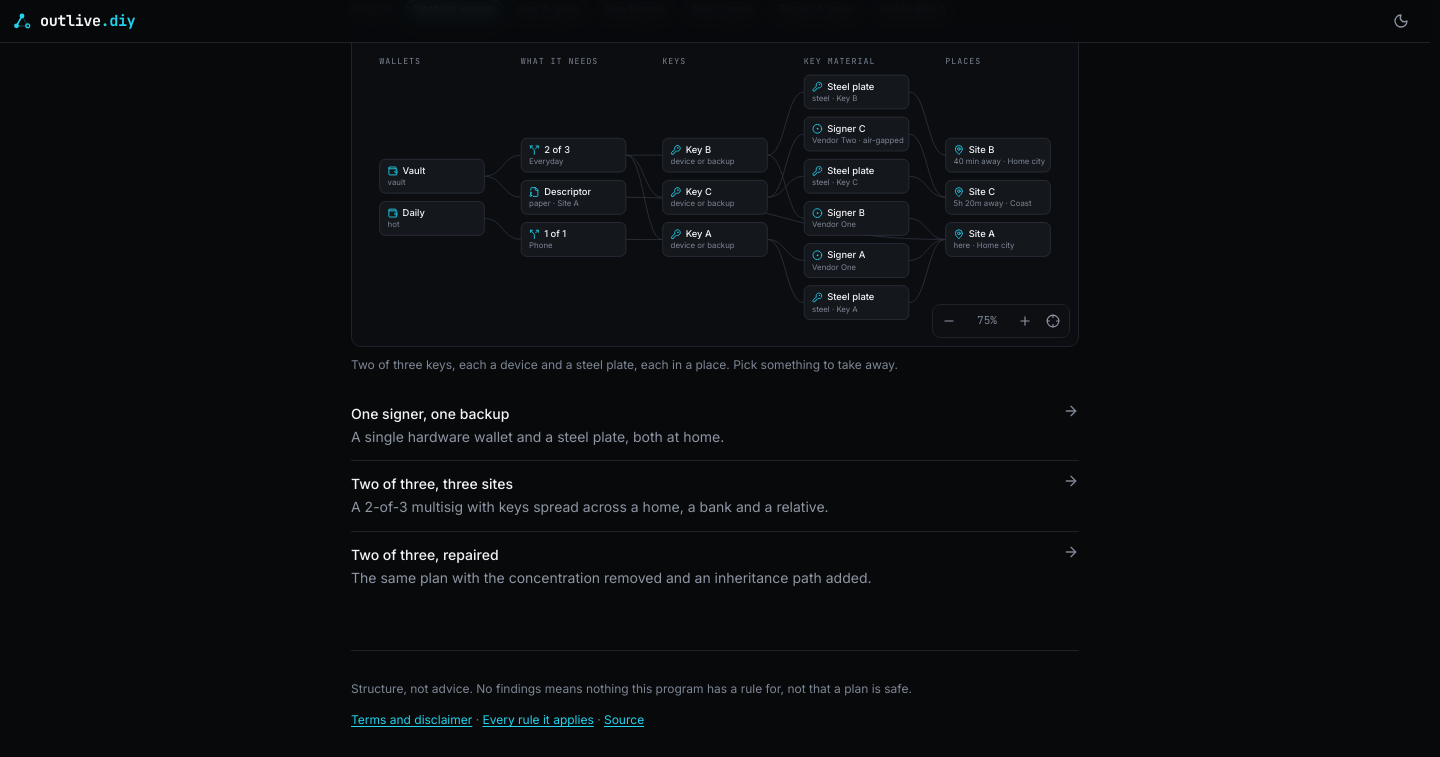
Test case: the input guard, in the interface › refuses the four-letter form a metal plate is stamped in
The image size is (1440, 757).
(page scrolled)
Step 1. Click the text "One signer, one backup" → (430, 413), box [351, 405, 509, 422]
(page scrolled)
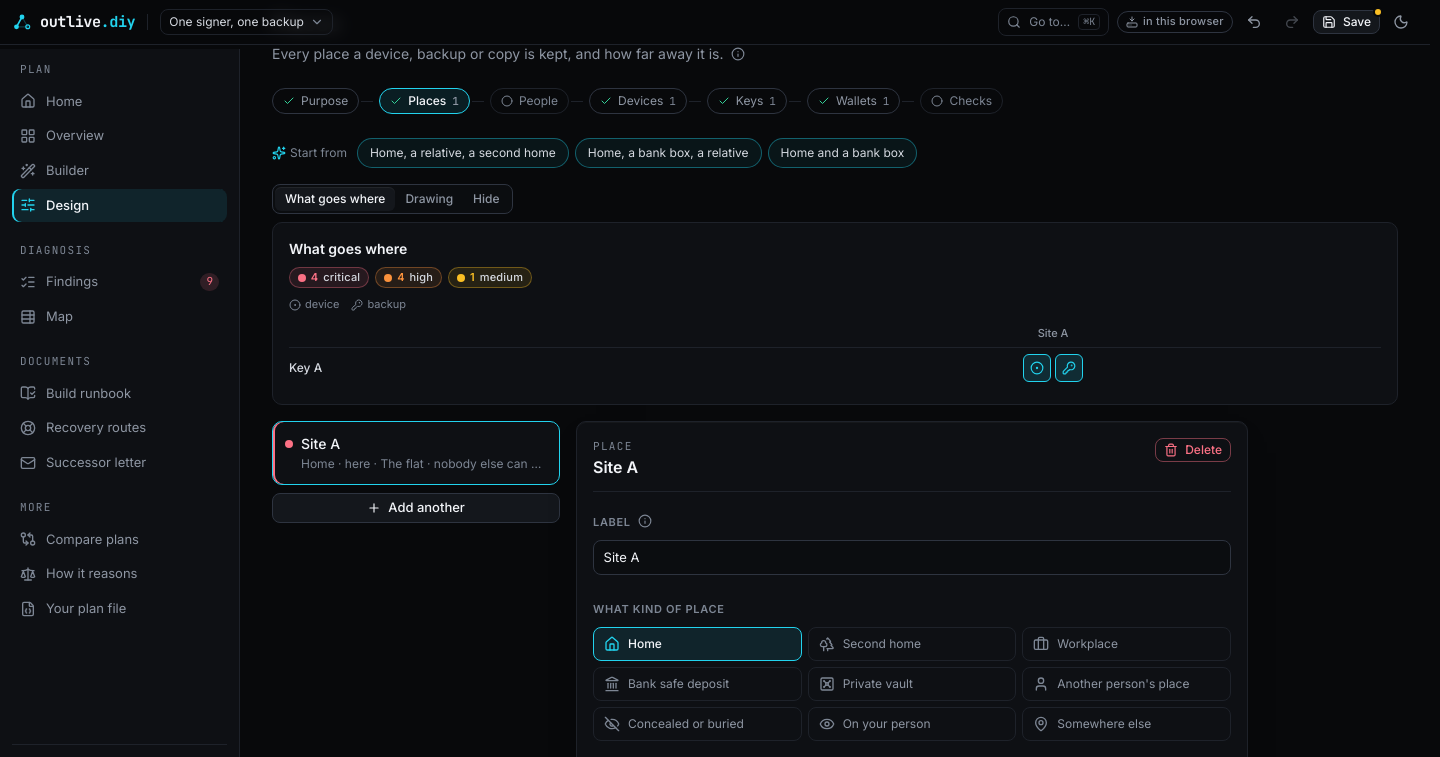
Step 2. Clear the field labelled "Label" → (912, 558), box [593, 540, 1231, 575]
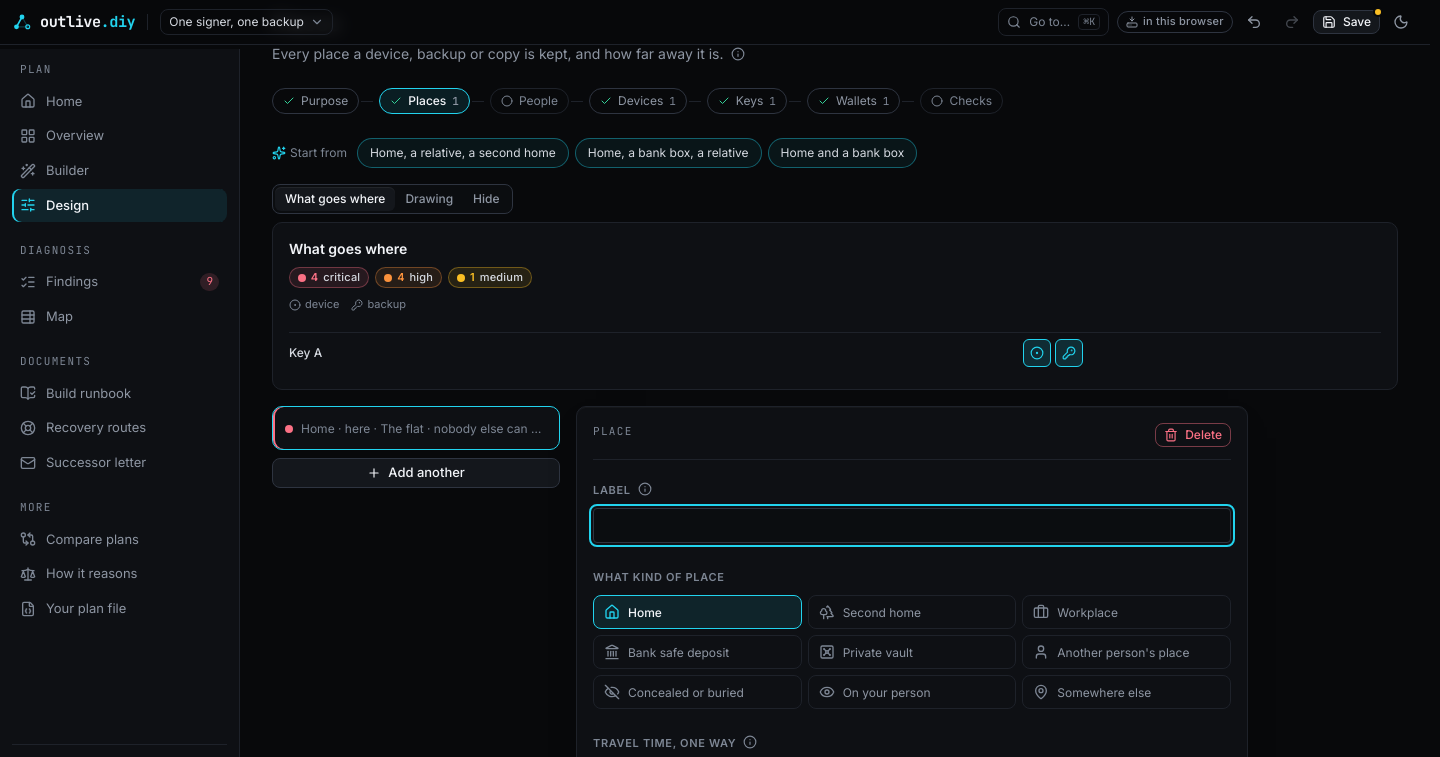
Step 3. Type "lega winn than year wave saus wort usef lega winn than yell" into the field labelled "Label" → (912, 526), box [593, 508, 1231, 544]
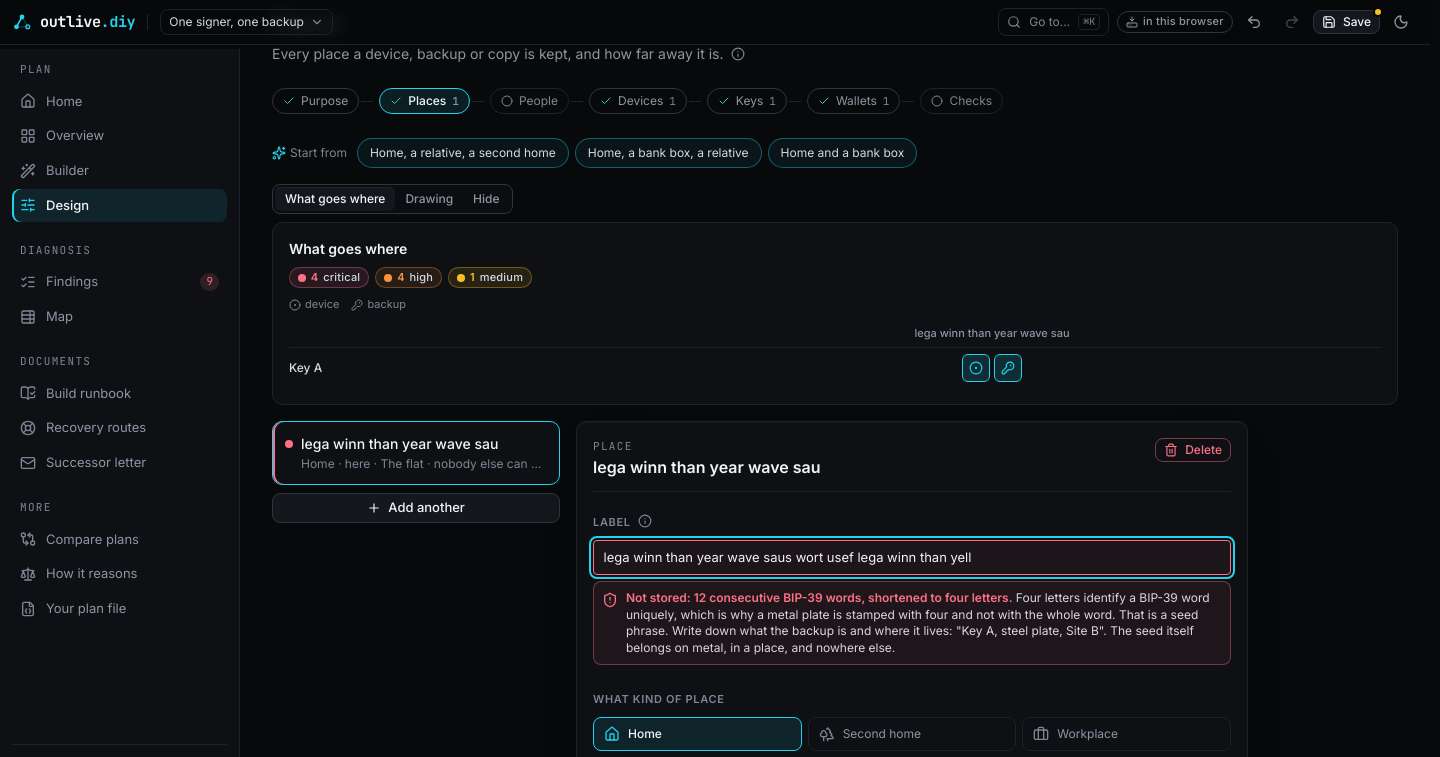
Check: the message does not show "saus", box [593, 581, 1231, 665]
Check: the message shows "Not stored", box [626, 590, 694, 605]
Check: the message shows "shortened to four letters", box [694, 590, 1009, 605]
Step 4. Press Tab
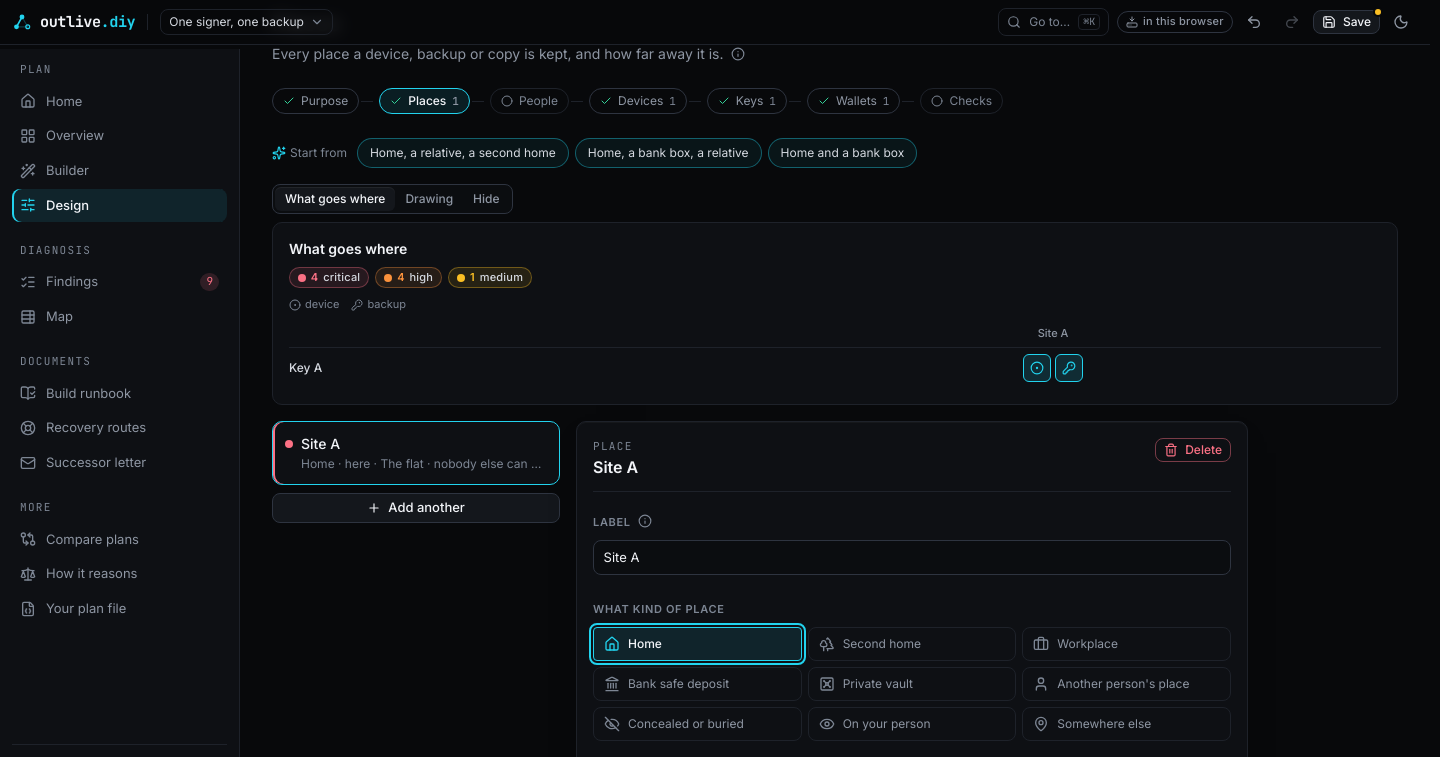
Check: the column heading "Site A" is shown, box [725, 326, 1381, 347]
